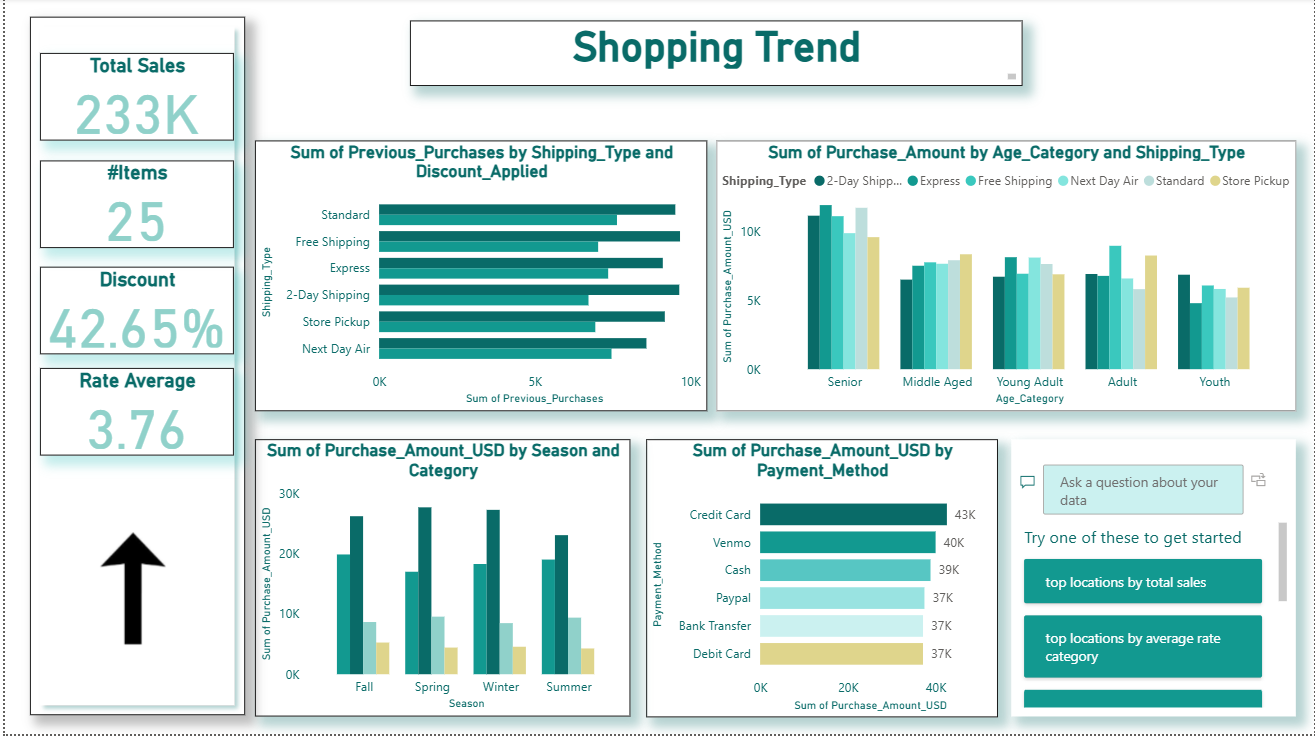

The page's visual inventory and layout, read from the dashboard file:
{"tool":"powerbi","page":{"name":"Page 2","canvas":[1280,720],"ordinal":1},"visuals":[{"type":"clusteredBarChart","fields":{"Category":["Sheet1.Payment_Method"],"Y":["Sum(Sheet1.Purchase_Amount_USD)"]},"box":[627.2,431.3,343.8,272.3],"z":0},{"type":"clusteredColumnChart","fields":{"Y":["Sum(Sheet1.Purchase_Amount_USD)"],"Series":["Sheet1.Category"],"Category":["Sheet1.Season"]},"box":[244,431.3,367.2,271.1],"z":1000},{"type":"textbox","title":"Shopping Trend","box":[396.8,22.2,598.8,64.1],"z":2000},{"type":"shape","box":[24.5,18.3,210,683.6],"z":3000},{"type":"card","title":"Total Sales","fields":{"Values":["ALL Measues.Total Sales"]},"box":[34.2,53.8,189.5,85.6],"z":4000},{"type":"card","title":"Discount","fields":{"Values":["ALL Measues.% Discounted Sales"]},"box":[34.2,262.9,189.5,85.6],"z":5000},{"type":"card","title":"Rate Average","fields":{"Values":["ALL Measues.Average_Rating_Per_Category"]},"box":[34.2,362,189.5,85.6],"z":6000},{"type":"card","title":"#Items","fields":{"Values":["ALL Measues.Category"]},"box":[34.2,159,189.5,85.6],"z":7000},{"type":"imagepro72F4F4C66B5C47EDB72C8CA5F4BFCD1A","fields":{"imageUrl":["ALL Measues.Track Rev"]},"box":[47.7,472,155.3,211.6],"z":8000},{"type":"clusteredBarChart","fields":{"Category":["Sheet1.Shipping_Type"],"Series":["Sheet1.Discount_Applied"],"Y":["Sum(Sheet1.Previous_Purchases)"]},"box":[244,139.2,442.4,264.9],"z":9000},{"type":"qnaVisual","box":[984.5,431.3,278.5,271.1],"z":10000},{"type":"clusteredColumnChart","title":"Sum of Purchase_Amount by Age_Category and Shipping_Type","fields":{"Category":["Sheet1.Age_Category"],"Series":["Sheet1.Shipping_Type"],"Y":["Sum(Sheet1.Purchase_Amount_USD)"]},"box":[696.2,139.2,566.8,264.9],"z":11000}]}

Visuals, with their boxes in screenshot pixels (x1, y1, x2, y2), scaled from the page's 1280x720 canvas onto the 1315x738 screenshot:
clusteredBarChart - Sheet1.Payment_Method x Sum(Sheet1.Purchase_Amount_USD): {"x1": 644, "y1": 442, "x2": 998, "y2": 721}
clusteredColumnChart - Sum(Sheet1.Purchase_Amount_USD) x Sheet1.Category: {"x1": 251, "y1": 442, "x2": 628, "y2": 720}
"Shopping Trend" textbox: {"x1": 408, "y1": 23, "x2": 1023, "y2": 88}
shape: {"x1": 25, "y1": 19, "x2": 241, "y2": 719}
"Total Sales" card: {"x1": 35, "y1": 55, "x2": 230, "y2": 143}
"Discount" card: {"x1": 35, "y1": 269, "x2": 230, "y2": 357}
"Rate Average" card: {"x1": 35, "y1": 371, "x2": 230, "y2": 459}
"#Items" card: {"x1": 35, "y1": 163, "x2": 230, "y2": 251}
imagepro72F4F4C66B5C47EDB72C8CA5F4BFCD1A - ALL Measues.Track Rev: {"x1": 49, "y1": 484, "x2": 209, "y2": 701}
clusteredBarChart - Sheet1.Shipping_Type x Sheet1.Discount_Applied: {"x1": 251, "y1": 143, "x2": 705, "y2": 414}
qnaVisual: {"x1": 1011, "y1": 442, "x2": 1298, "y2": 720}
"Sum of Purchase_Amount by Age_Category and Shipping_Type" clusteredColumnChart: {"x1": 715, "y1": 143, "x2": 1298, "y2": 414}
